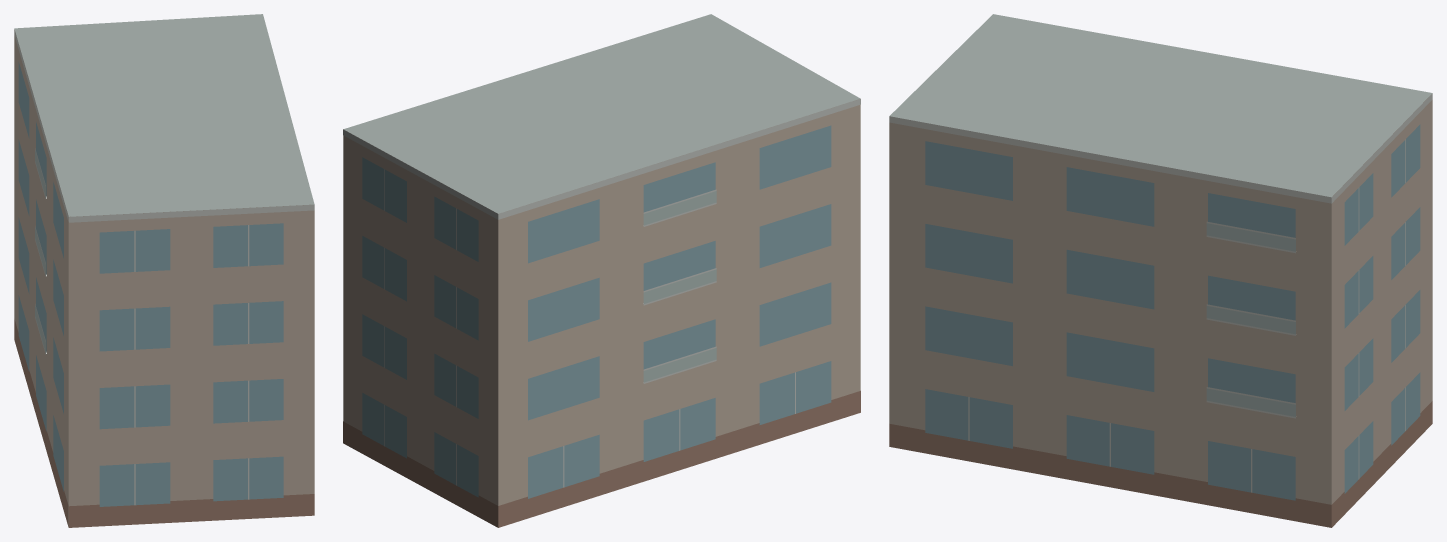
Rendered from survey-upis-32681598.glb.
3 renders of one model, left to right at view 1: azimuth 30°, elevation 25°; view 2: azimuth 150°, elevation 25°; view 3: azimuth 270°, elevation 25°, orthographic. The views are drawn at different scales.
Parts seen in each view (by area): view 1: survey-upis-32681598.tmp; view 2: survey-upis-32681598.tmp; view 3: survey-upis-32681598.tmp.
Boxes of the visible parts, x1=… form: survey-upis-32681598.tmp: x1=14, y1=14, x2=314, y2=527; survey-upis-32681598.tmp: x1=343, y1=14, x2=860, y2=527; survey-upis-32681598.tmp: x1=889, y1=14, x2=1432, y2=527.
Size of the model in its own units: 15.23 by 12.8 by 19.08.
